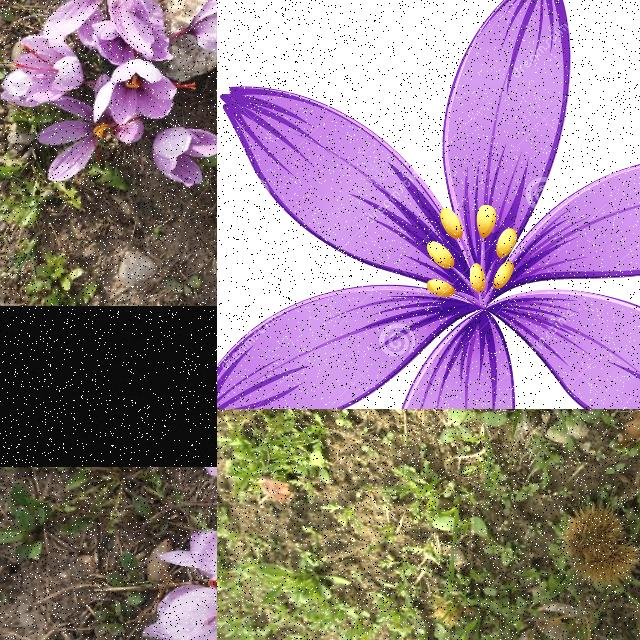flower: (43, 0, 160, 60), (93, 60, 197, 126), (0, 34, 86, 108), (153, 126, 217, 188), (186, 0, 217, 58)
overlap: (0, 0, 174, 181), (141, 467, 217, 640)
